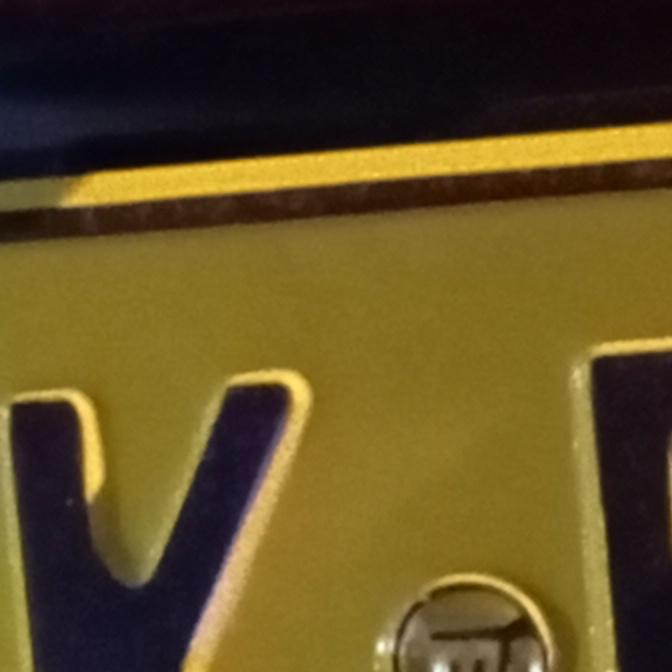plates: (0, 130, 672, 672)
